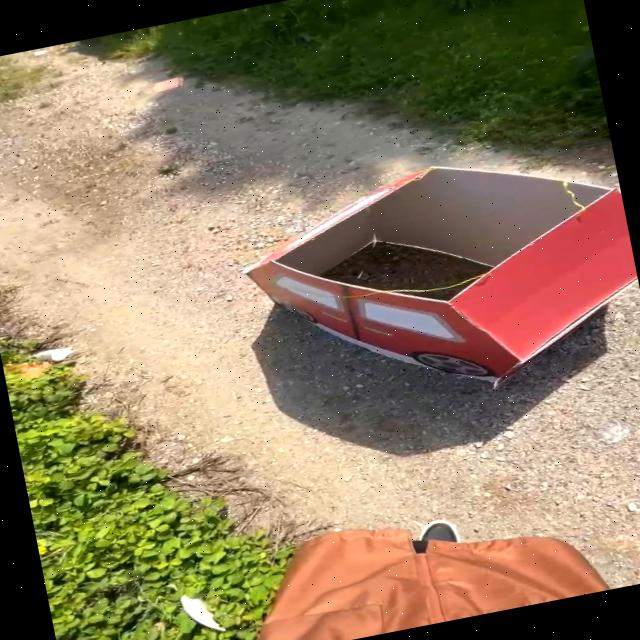red_car: (211, 125, 640, 447)
